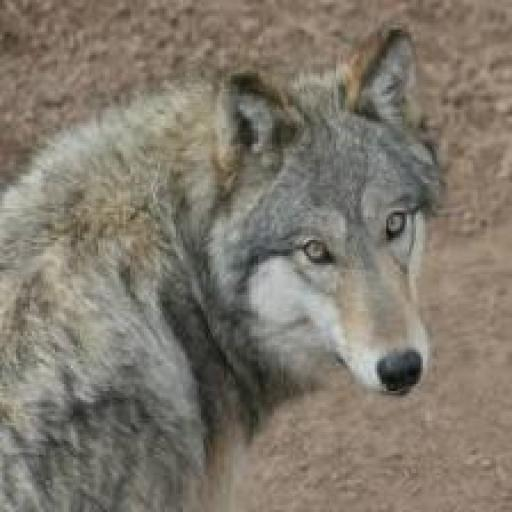wolf: (2, 25, 438, 512)
